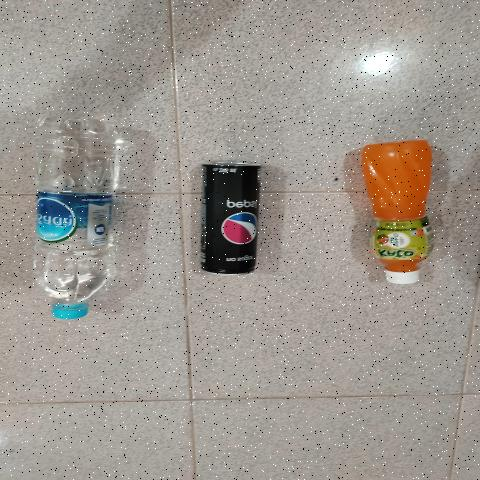crystal: (38, 116, 112, 325)
pepsi_black: (204, 164, 267, 276)
